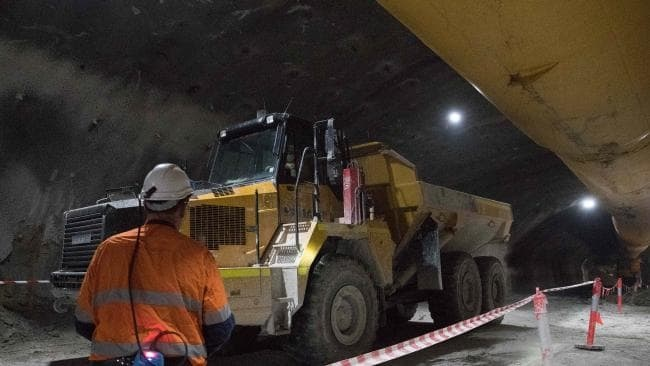white: (138, 163, 193, 227)
